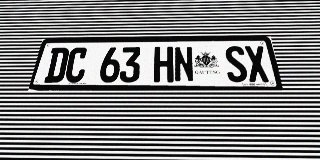3: (119, 47, 141, 82)
6: (99, 47, 122, 83)
C: (63, 47, 89, 83)
D: (44, 48, 70, 83)
H: (153, 47, 173, 82)
N: (174, 46, 194, 82)
S: (224, 46, 249, 82)
X: (244, 46, 270, 82)
